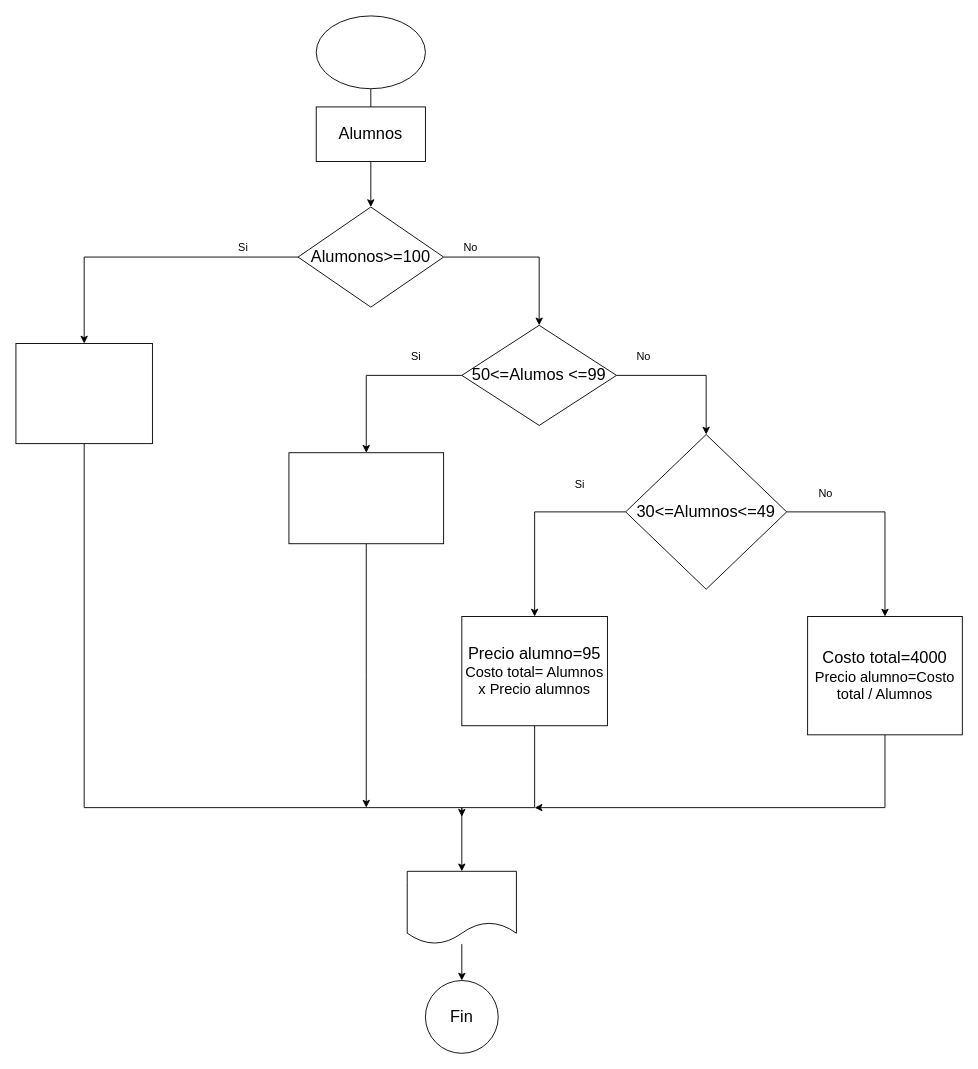
Some shapes in this 978 by 1069 pixel diagram are drawn without their labels. The centre of each missing label's shape, as x and y in pixels:
"Inicio" belongs at (370,52).
"Precio alumno Costo total" belongs at (461,907).
"Precio alumno=65 Costo total=Aulmnos x Precio alumnos" belongs at (83,393).
"Precio alumno=70 Costo total= Alumnos x Precio alumnos" belongs at (366,498).
